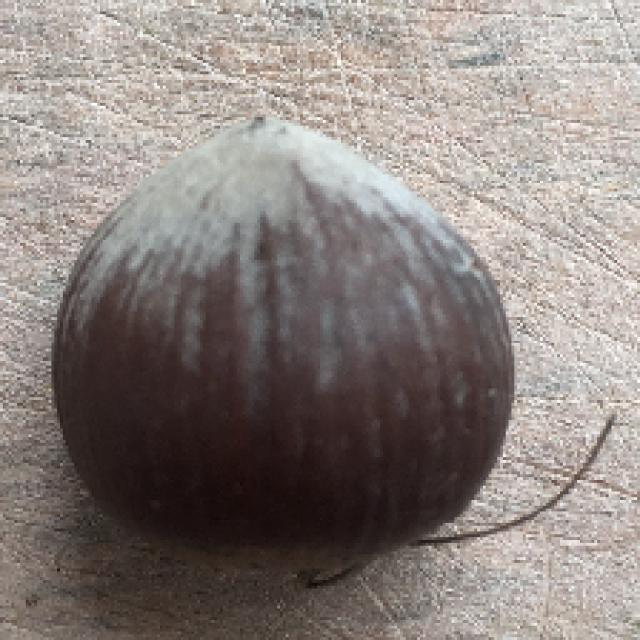DamagedHazelnut: (58, 112, 521, 559)
